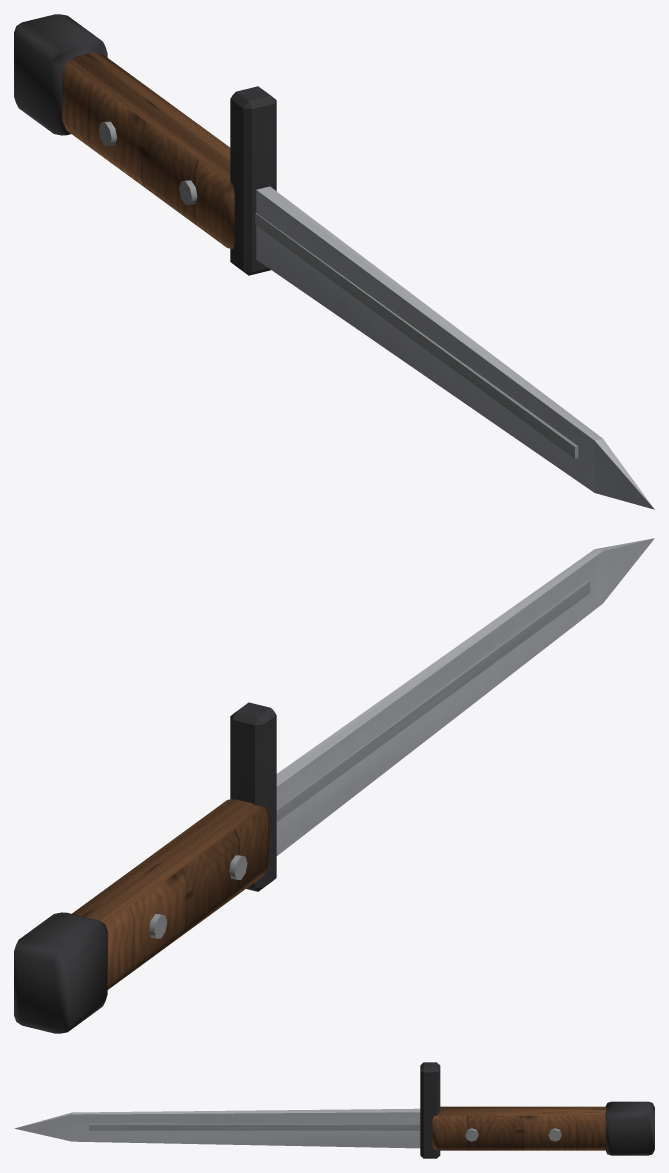
The model's file is OB_Bagnet.fbx.
3 views of the same model, one above another, from view 1: azimuth 30°, elevation 25°; view 2: azimuth 150°, elevation 25°; view 3: azimuth 270°, elevation 25° (orthographic). The views are drawn at different scales.
Visible parts, largest first — view 1: Bron; view 2: Bron; view 3: Bron.
Part boxes in pixels (x1,y1,x2,y2): Bron: (14,14,654,509); Bron: (14,538,654,1033); Bron: (14,1062,654,1158).
Size of the model in its own units: 0.02 by 0.06 by 0.385.
